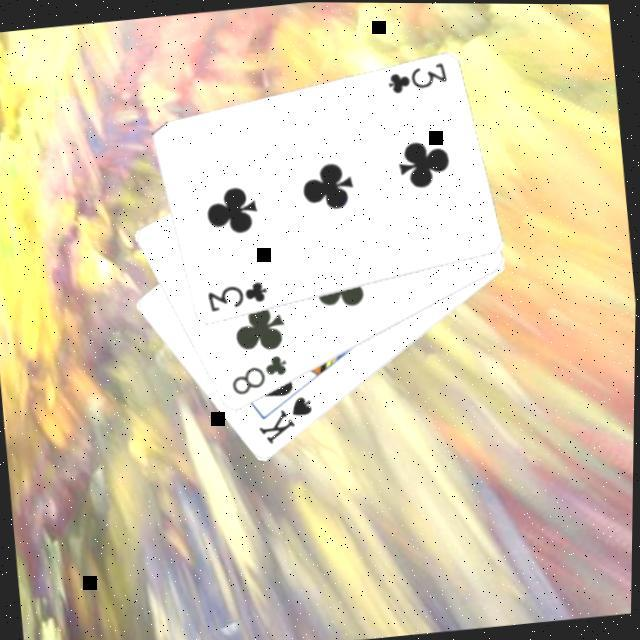3C: (382, 57, 451, 96), (204, 276, 272, 314)
8C: (226, 350, 294, 398)
KS: (253, 390, 321, 447)
